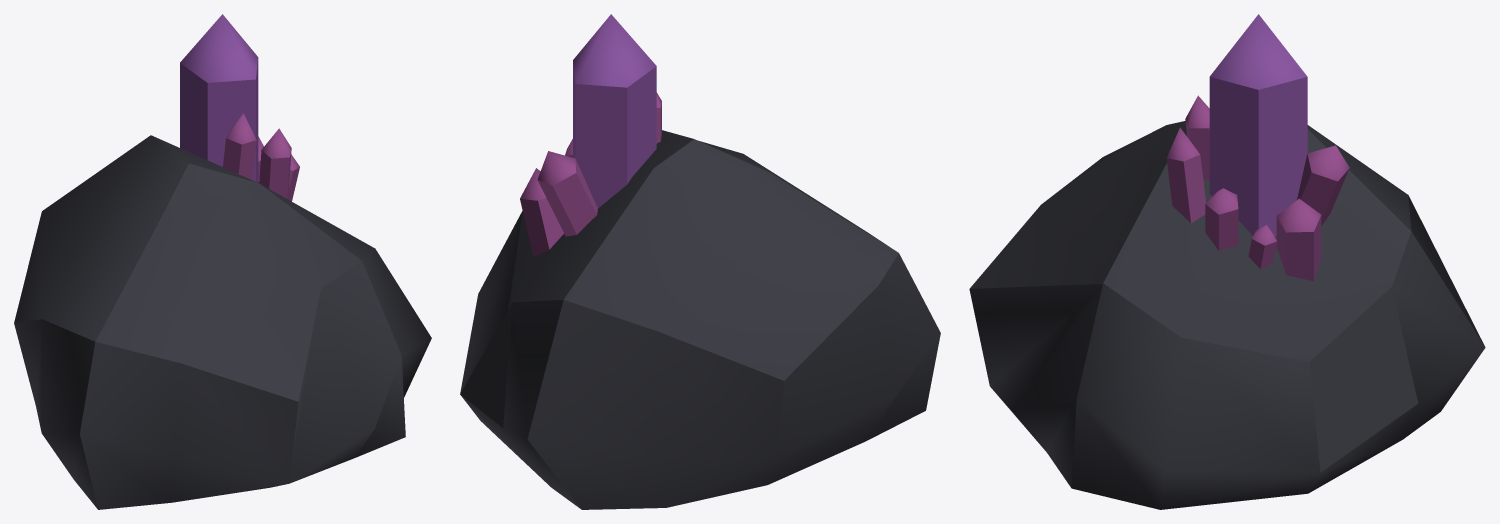
File: hallie_amethyst.fbx
3 views of the same model, side by side, from view 1: azimuth 30°, elevation 25°; view 2: azimuth 150°, elevation 25°; view 3: azimuth 270°, elevation 25° (orthographic). The views are drawn at different scales.
Visible parts, largest first — view 1: m_oreRock, m_ameGem1, m_ameGem5, m_ameGem6; view 2: m_oreRock, m_ameGem1, m_ameGem3, m_ameGem2; view 3: m_oreRock, m_ameGem1, m_ameGem2, m_ameGem5, m_ameGem3, m_ameGem4, m_ameGem6, m_ameGem7.
Part boxes in pixels (left/top/right/bottom): m_oreRock: left=14, top=135, right=431, bottom=509; m_ameGem1: left=180, top=14, right=258, bottom=182; m_ameGem5: left=259, top=128, right=291, bottom=199; m_ameGem6: left=223, top=113, right=256, bottom=180; m_oreRock: left=460, top=130, right=940, bottom=509; m_ameGem1: left=573, top=14, right=656, bottom=208; m_ameGem3: left=537, top=151, right=597, bottom=236; m_ameGem2: left=520, top=168, right=563, bottom=256; m_oreRock: left=969, top=121, right=1485, bottom=509; m_ameGem1: left=1209, top=14, right=1307, bottom=236; m_ameGem2: left=1276, top=198, right=1321, bottom=281; m_ameGem5: left=1166, top=127, right=1206, bottom=223; m_ameGem3: left=1297, top=145, right=1349, bottom=225; m_ameGem4: left=1205, top=188, right=1238, bottom=250; m_ameGem6: left=1185, top=95, right=1209, bottom=180; m_ameGem7: left=1248, top=225, right=1277, bottom=268.
Bounding box in the file's own units: 0.885 × 0.8508 × 0.9185.
